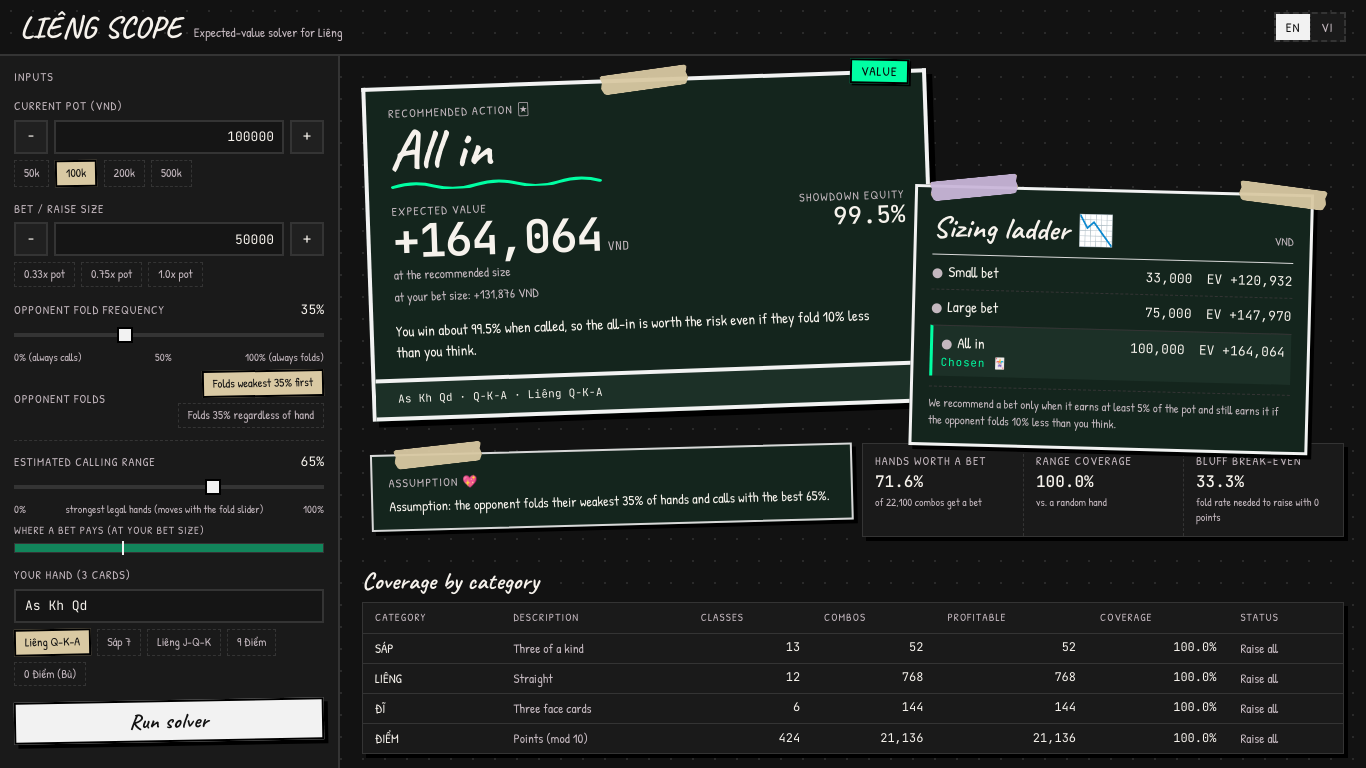
App › clearing the hand shows the range instead of an error
Expected: the heading "All in" is shown, [388,112,493,186]
Clear the field labelled "Your hand (3 cards)" at (169, 606), box [14,589,324,623]
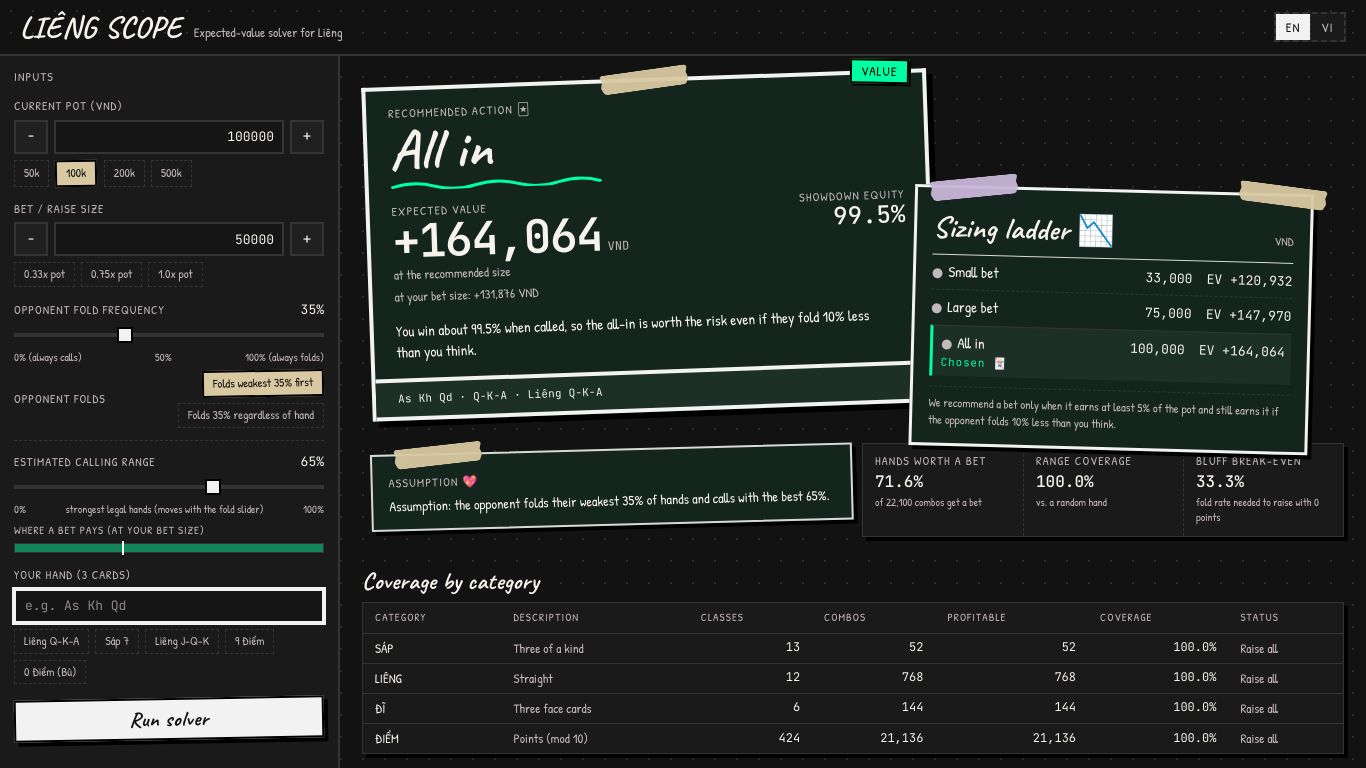
Click the button "Run solver" at (169, 719), box [14,696,324,743]
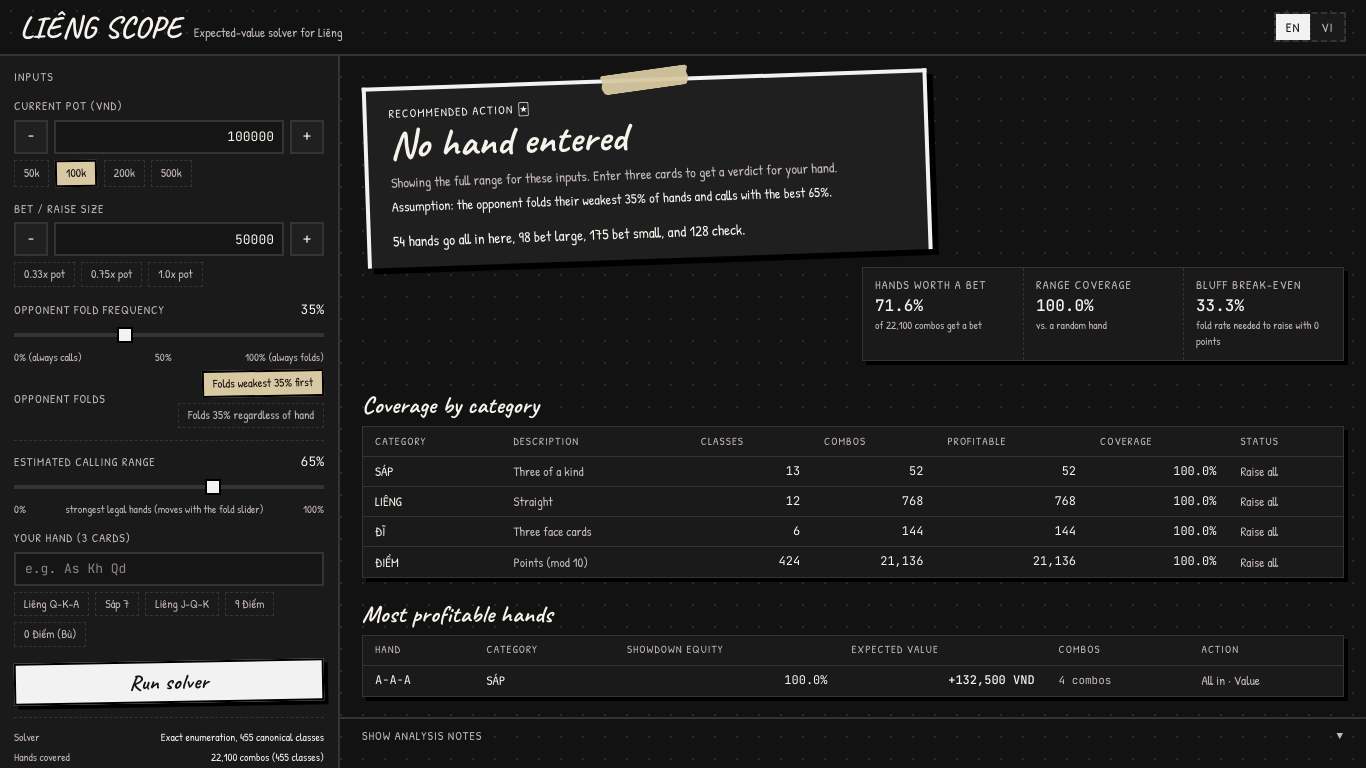
Expected: the text "A-A-A" is shown, [363,666,475,696]
Expected: the heading "No hand entered" is shown, [389,112,628,170]
